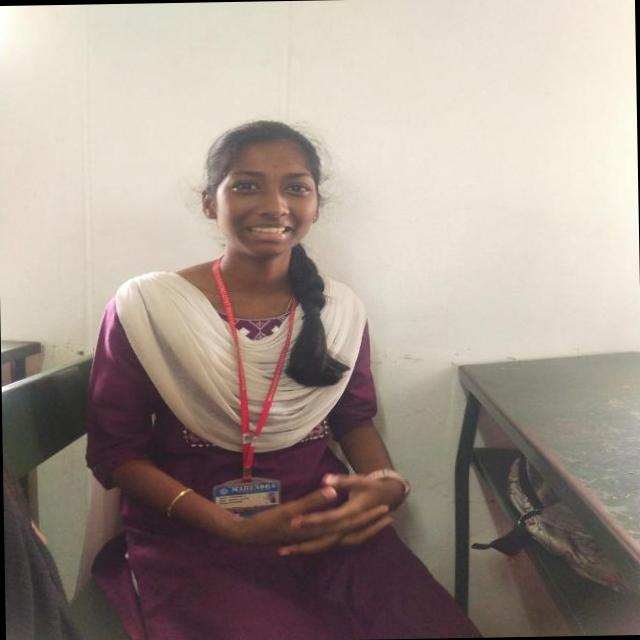id_card: (214, 268, 288, 514)
